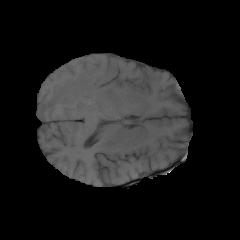glioma: (42, 69, 116, 115)
